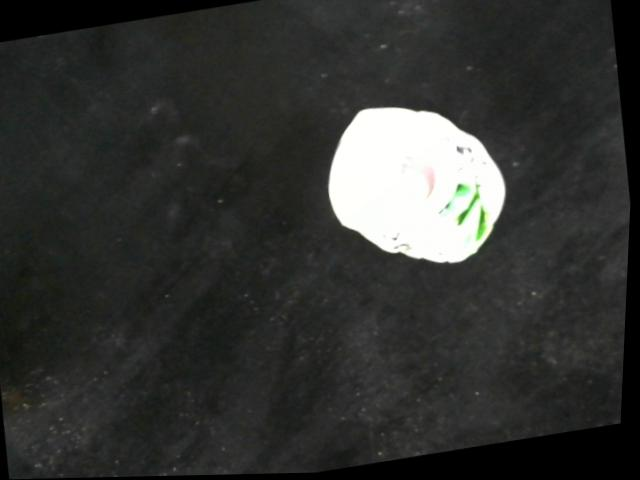can: (326, 102, 519, 276)
